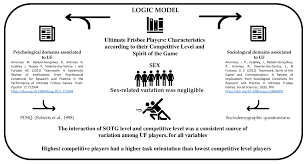disc: (134, 122, 208, 151)
